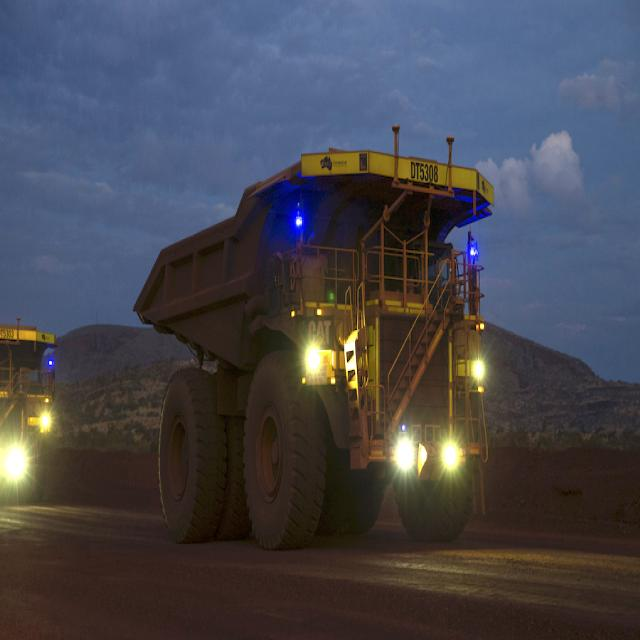dump_truck: (140, 128, 490, 550), (5, 315, 60, 517)
